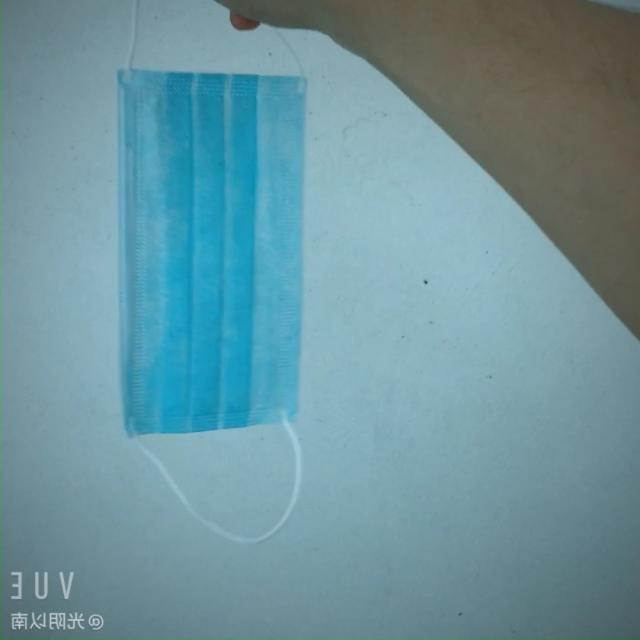face mask: (95, 49, 312, 458)
